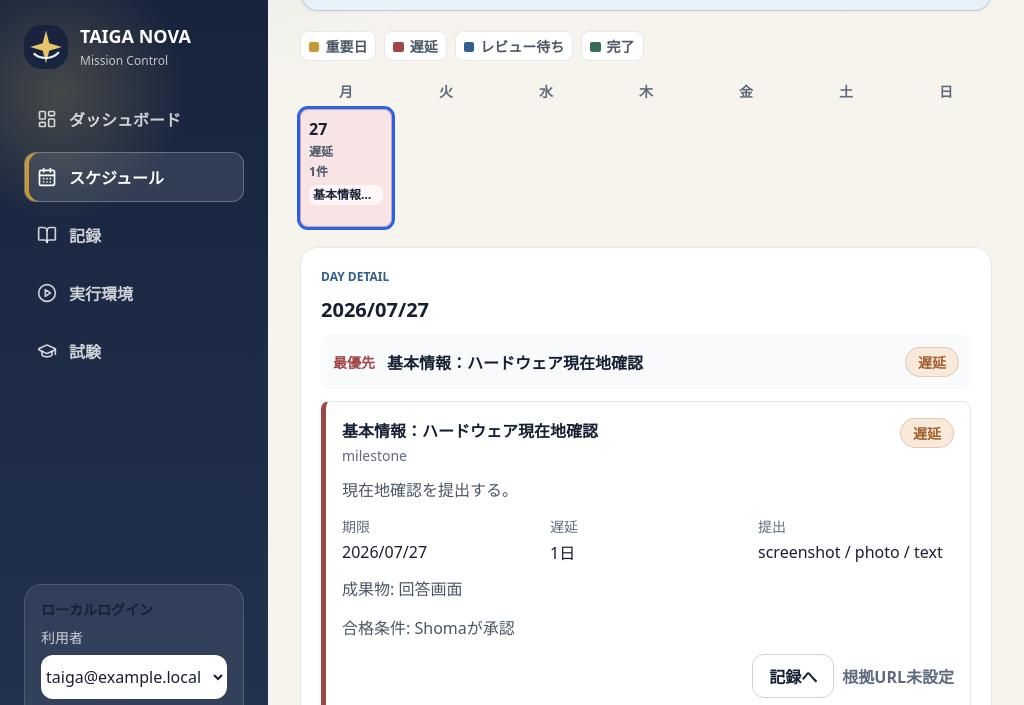
Test: App › shows the schedule calendar and opens linked assignments
The width and height of the screenshot is (1024, 705).
(page scrolled)
Expected: the element named "カレンダー凡例" shows "重要日", [325, 37, 367, 56]
Expected: the text "根拠URL未設定" is shown, [842, 664, 954, 688]
Click the button "記録へ" at (793, 676), box [752, 654, 834, 698]
(page scrolled)
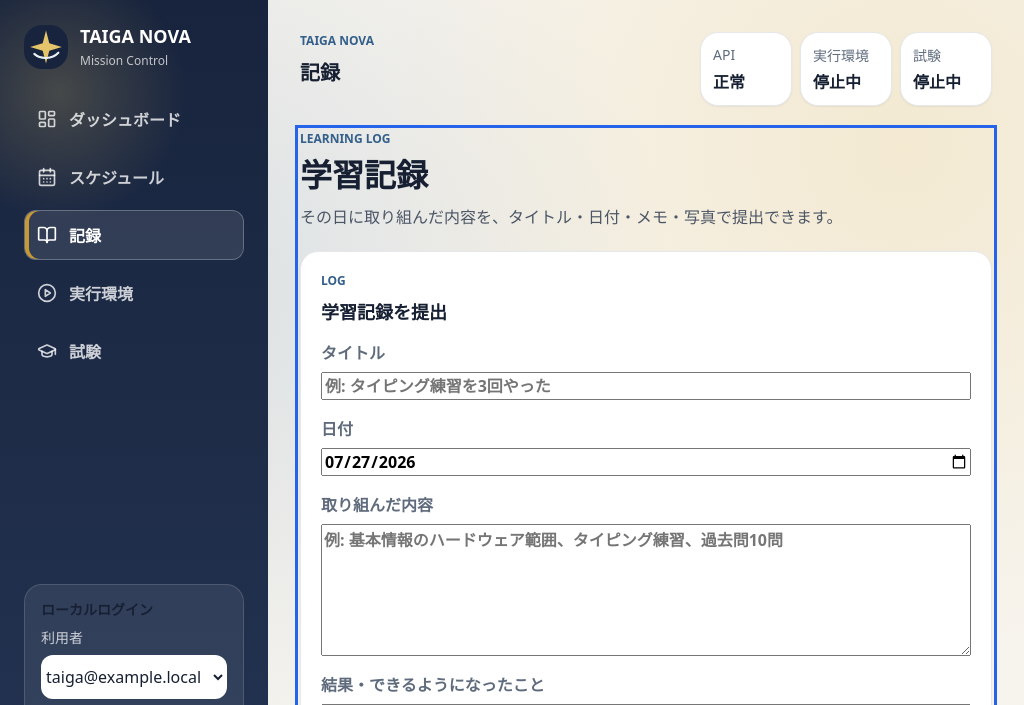
Result: the heading "学習記録" is shown at [300, 153, 428, 196]
